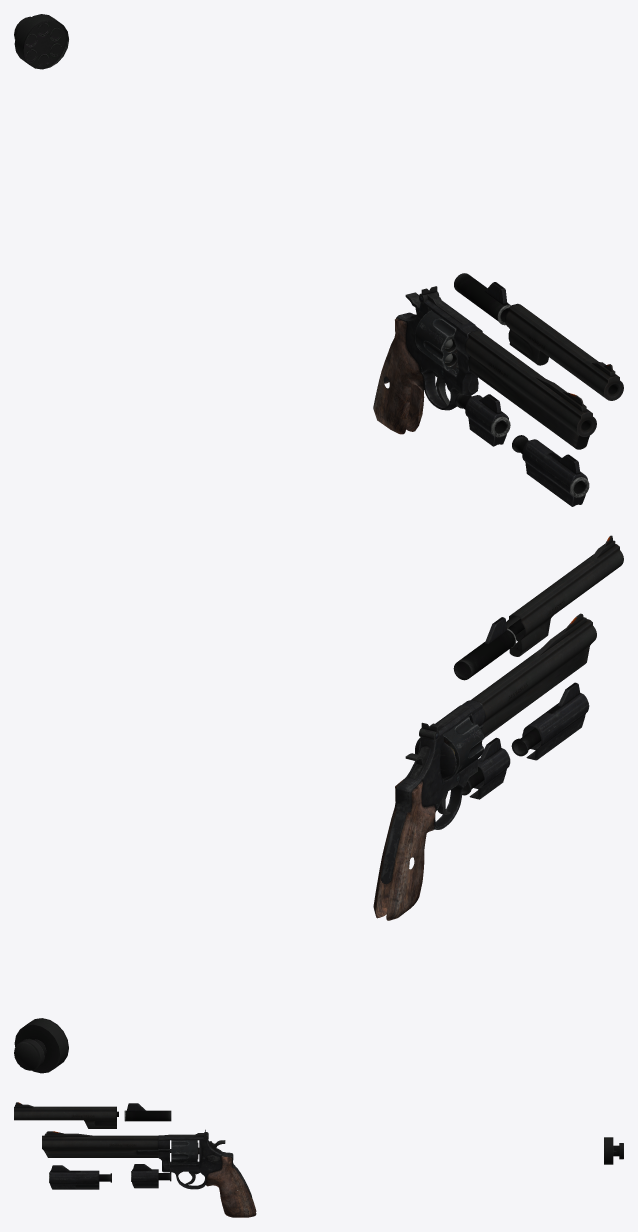
Rendered from the real 3.fbx.
The picture shows the model from 3 angles, top to bottom: view 1: azimuth 30°, elevation 25°; view 2: azimuth 150°, elevation 25°; view 3: azimuth 270°, elevation 25°; orthographic projection. The views are drawn at different scales.
Visible parts, largest first — view 1: v_sw329.002, masterbarrel, body, v_sw329.001, v_sw329.003, v_sw329.004; view 2: v_sw329.002, masterbarrel, body, v_sw329.001, v_sw329.004, v_sw329.003; view 3: v_sw329.002, masterbarrel, body, v_sw329.001, v_sw329.003, v_sw329.004.
Boxes of the visible parts, x1,y1,x2,y2 form: v_sw329.002: (14,14,482,434); masterbarrel: (464,330,596,449); body: (505,303,623,400); v_sw329.001: (512,435,589,506); v_sw329.003: (455,392,510,446); v_sw329.004: (454,273,510,325); v_sw329.002: (14,700,484,1073); masterbarrel: (471,613,596,737); body: (506,535,623,656); v_sw329.001: (511,682,589,760); v_sw329.004: (453,617,516,680); v_sw329.003: (462,737,510,799); v_sw329.002: (137,1129,623,1217); masterbarrel: (42,1131,158,1157); body: (14,1102,118,1128); v_sw329.001: (49,1165,111,1189); v_sw329.003: (131,1164,171,1188); v_sw329.004: (124,1103,171,1121).
Size of the model in its own units: 192 by 885 by 4288.
